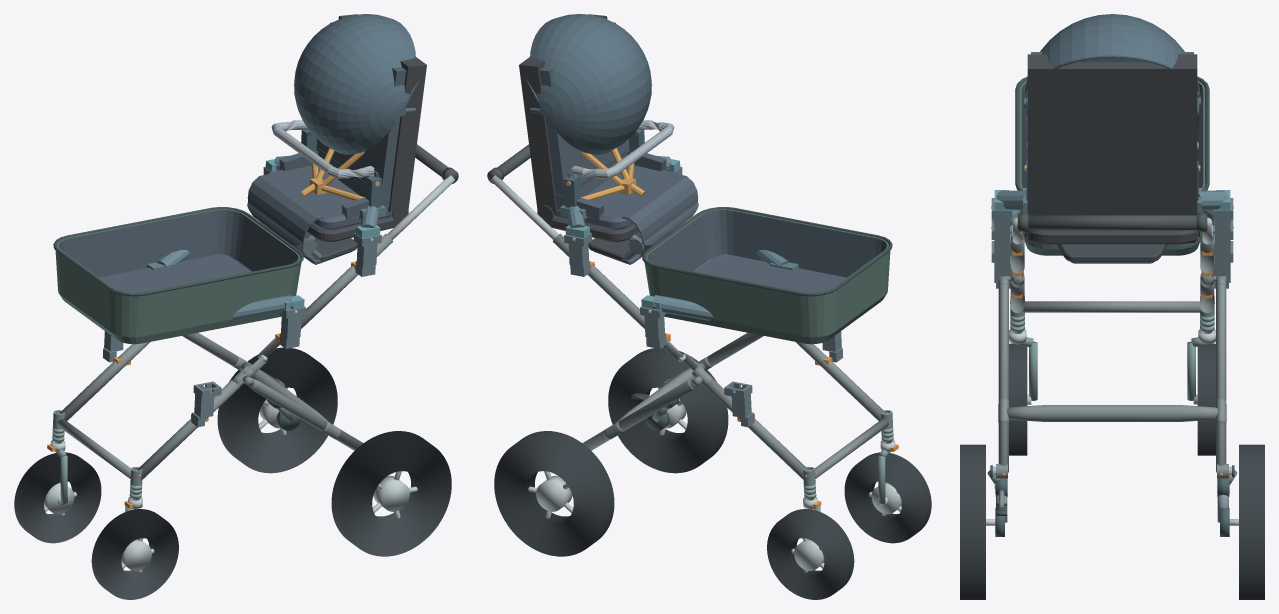
File: D08_w550_state1_wheel_L.glb
The picture shows the model from 3 angles, left to right: view 1: azimuth 30°, elevation 25°; view 2: azimuth 150°, elevation 25°; view 3: azimuth 270°, elevation 25°; orthographic projection. The views are drawn at different scales.
Parts seen in each view (by area): view 1: D08_Upper, D08_Lower, RL_tire.002, RR_tire.002, FL_tire.002, FR_tire.002, D08_Lower_Mount_M, V46_rear_leg_-1.003, main_lower_-1.003, main_lower_1.003, main_upper_-1.003, RL_sealed_hub.002 (+9 smaller); view 2: D08_Upper, D08_Lower, RR_tire.002, RL_tire.002, FR_tire.002, FL_tire.002, D08_Lower_Mount_M, V46_rear_leg_1.003, main_lower_1.003, main_lower_-1.003, main_upper_1.003, RR_sealed_hub.002 (+9 smaller); view 3: D08_Upper, RL_tire.002, RR_tire.002, V46_rearbar.003, D08_Lower, round_handle.002, front_fixed_round_tube.002, FL_tire.002, FR_tire.002, V46_rear_leg_1.003, V46_rear_leg_-1.003, D08_Upper_Mount_H (+8 smaller).
Part boxes in pixels (bbox=[...]): D08_Upper: bbox=[247, 14, 426, 264]; D08_Lower: bbox=[53, 207, 303, 344]; RL_tire.002: bbox=[331, 431, 451, 556]; RR_tire.002: bbox=[217, 347, 337, 473]; FL_tire.002: bbox=[91, 509, 178, 599]; FR_tire.002: bbox=[14, 452, 101, 543]; D08_Lower_Mount_M: bbox=[147, 250, 304, 320]; V46_rear_leg_-1.003: bbox=[250, 380, 363, 450]; main_lower_-1.003: bbox=[137, 380, 242, 479]; main_lower_1.003: bbox=[60, 342, 149, 420]; main_upper_-1.003: bbox=[279, 233, 393, 334]; RL_sealed_hub.002: bbox=[373, 475, 409, 511]; D08_Upper: bbox=[519, 14, 698, 264]; D08_Lower: bbox=[642, 207, 892, 344]; RR_tire.002: bbox=[494, 431, 614, 556]; RL_tire.002: bbox=[608, 347, 728, 473]; FR_tire.002: bbox=[767, 509, 854, 599]; FL_tire.002: bbox=[844, 452, 931, 543]; D08_Lower_Mount_M: bbox=[641, 250, 798, 320]; V46_rear_leg_1.003: bbox=[582, 380, 695, 450]; main_lower_1.003: bbox=[703, 380, 808, 479]; main_lower_-1.003: bbox=[796, 342, 885, 420]; main_upper_1.003: bbox=[552, 233, 666, 334]; RR_sealed_hub.002: bbox=[536, 475, 572, 511]; D08_Upper: bbox=[1024, 14, 1200, 263]; RL_tire.002: bbox=[960, 444, 985, 599]; RR_tire.002: bbox=[1239, 444, 1264, 599]; V46_rearbar.003: bbox=[1007, 405, 1217, 421]; D08_Lower: bbox=[1015, 76, 1209, 255]; round_handle.002: bbox=[1017, 215, 1207, 229]; front_fixed_round_tube.002: bbox=[1023, 301, 1201, 312]; FL_tire.002: bbox=[1009, 343, 1027, 455]; FR_tire.002: bbox=[1197, 343, 1215, 455]; V46_rear_leg_1.003: bbox=[1216, 283, 1226, 472]; V46_rear_leg_-1.003: bbox=[998, 283, 1008, 472]; D08_Upper_Mount_H: bbox=[991, 188, 1233, 213].
Bounding box in the file's own units: 1.19 × 1.51 × 0.7071.
